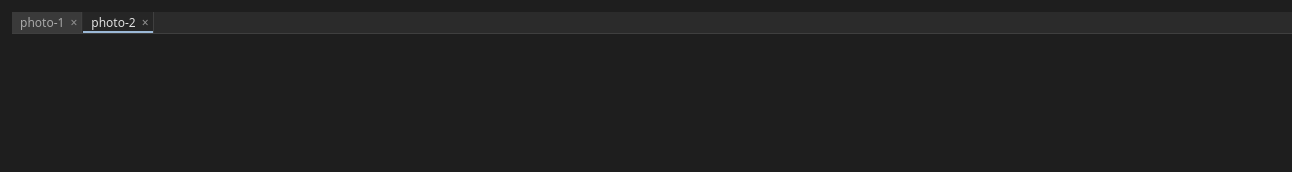
Test: DocumentTabs › the close button closes the tab and its document
Click the button named "Close photo-1" at (74, 22), box [66,12,81,33]
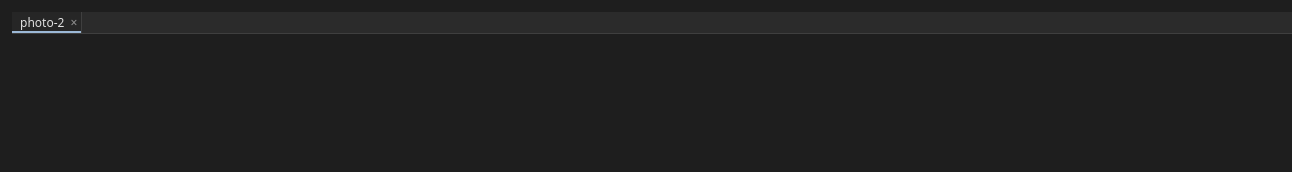
expect the tabs read "photo-2", in this order: met, box [12,12,66,33]
